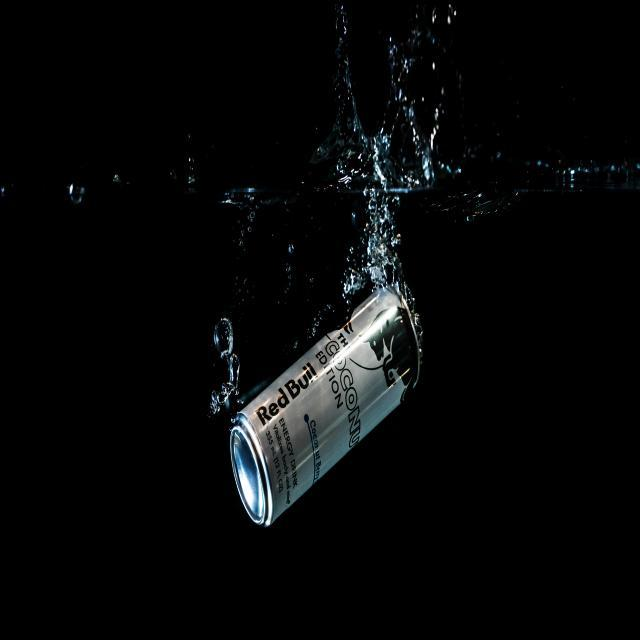can: (144, 188, 504, 558)
